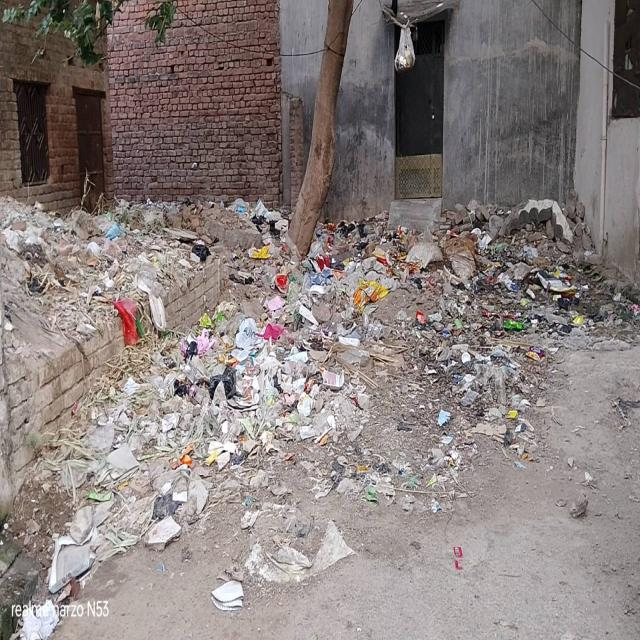Garbage: (7, 194, 444, 571)
